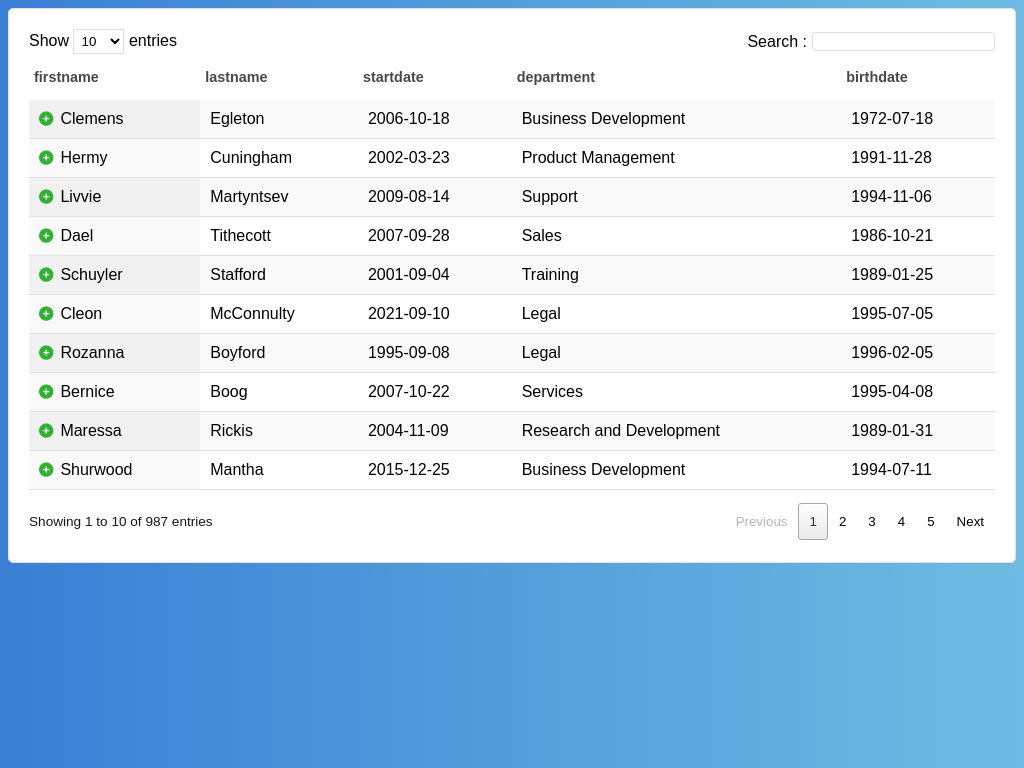
Test: When datatable is filled with json data › Then, click on next button should change page
The width and height of the screenshot is (1024, 768).
Click the button with test id "datatable-pagination-next". click: {"x": 970, "y": 521}
box: [946, 503, 995, 540]
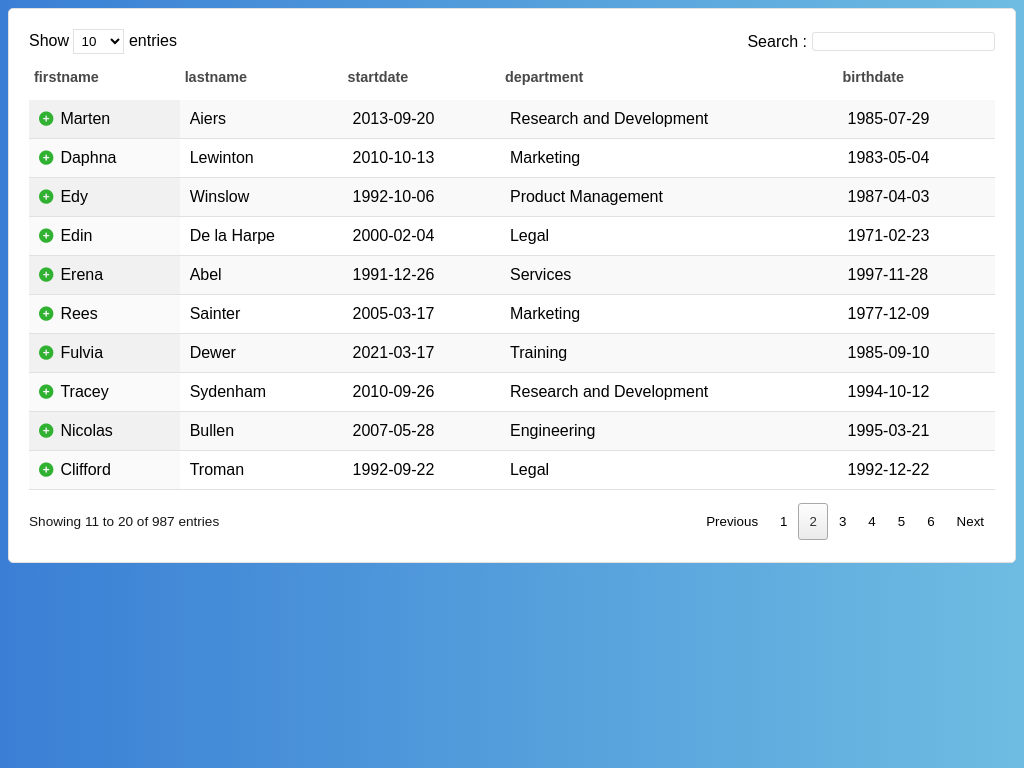
Expected: the button with test id "datatable-pagination-prev" is enabled, [695, 503, 769, 540]
